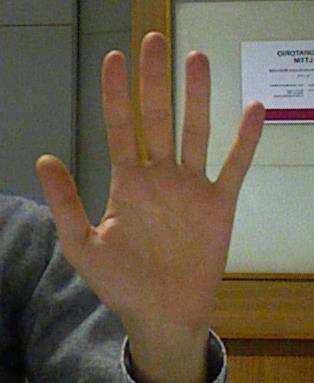down: (31, 30, 268, 325)
